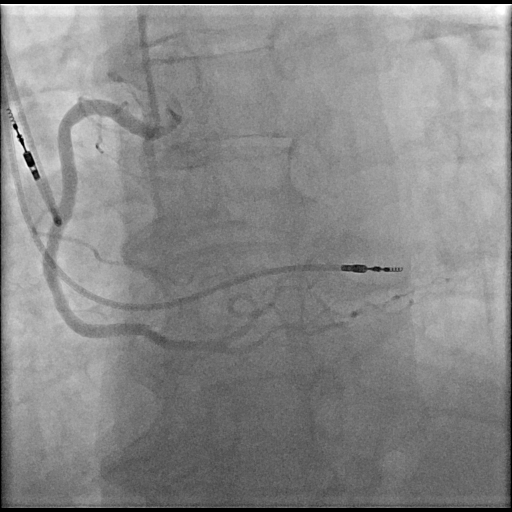RCA: (43, 100, 235, 354)
catherter: (138, 1, 160, 130)
